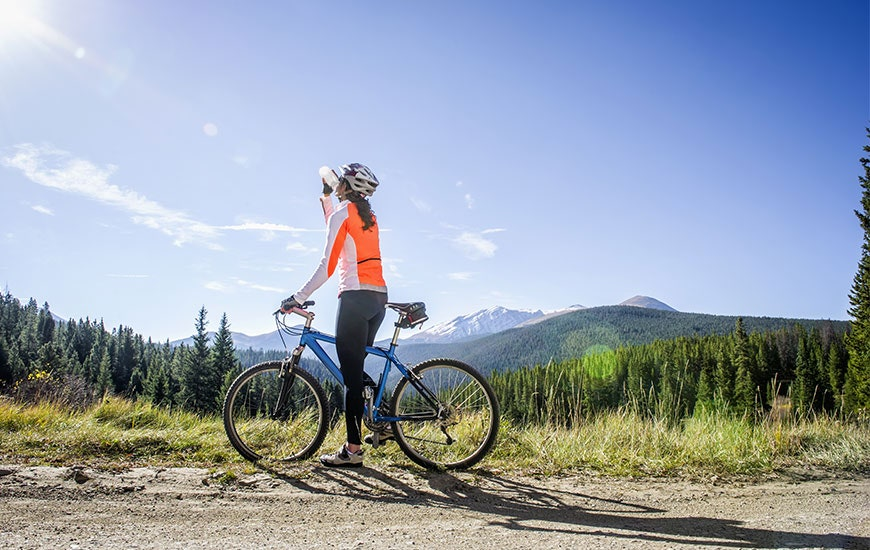commuter: (216, 159, 503, 475)
